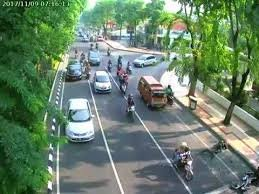mobil: (64, 98, 98, 143), (92, 71, 109, 94), (66, 61, 82, 81)
motor: (171, 150, 195, 183), (125, 102, 137, 122)
